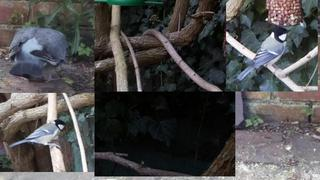great tit: (237, 27, 291, 81), (8, 120, 68, 149)
wood pigeon: (8, 27, 68, 84)
